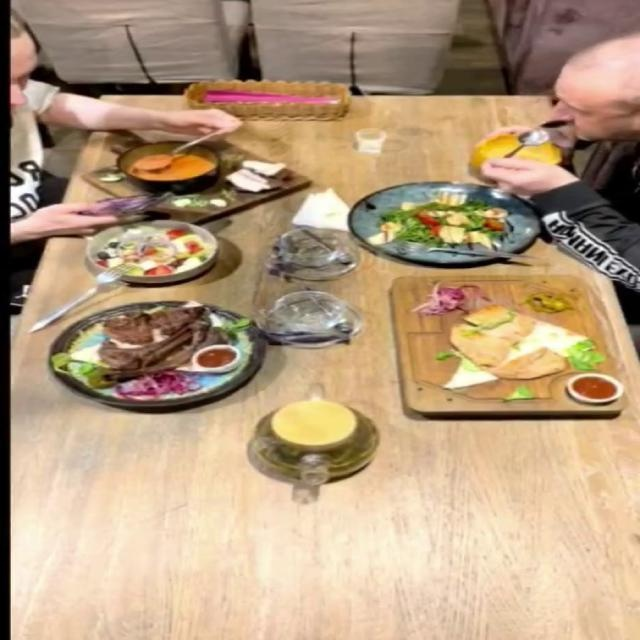meat: (383, 272, 625, 426), (46, 300, 269, 408)
salad: (349, 181, 543, 264), (84, 219, 220, 284)
soup: (78, 137, 314, 224), (470, 133, 562, 172)
tea: (244, 378, 392, 502)
